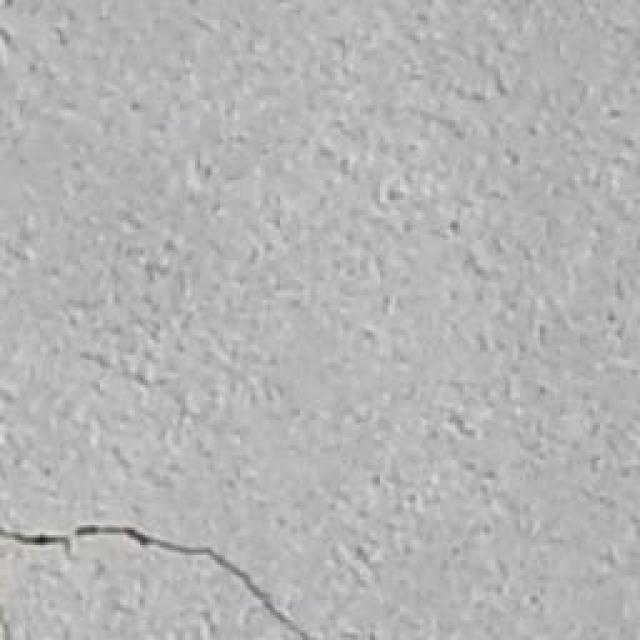concrete-crack: (0, 519, 327, 640)
